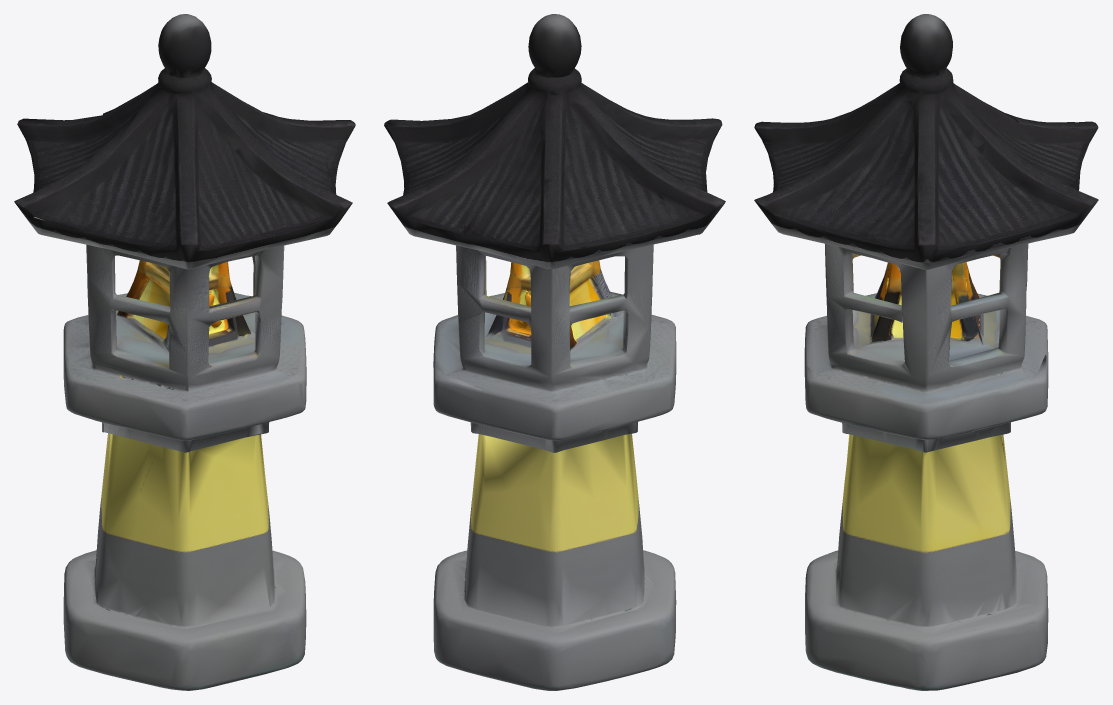
File: stone_lantern.glb
3 renders of one model, left to right at view 1: azimuth 30°, elevation 25°; view 2: azimuth 150°, elevation 25°; view 3: azimuth 270°, elevation 25°, orthographic.
Size of the model in its own units: 1.09 by 1.91 by 0.9598.
1 material, 1 textured.
